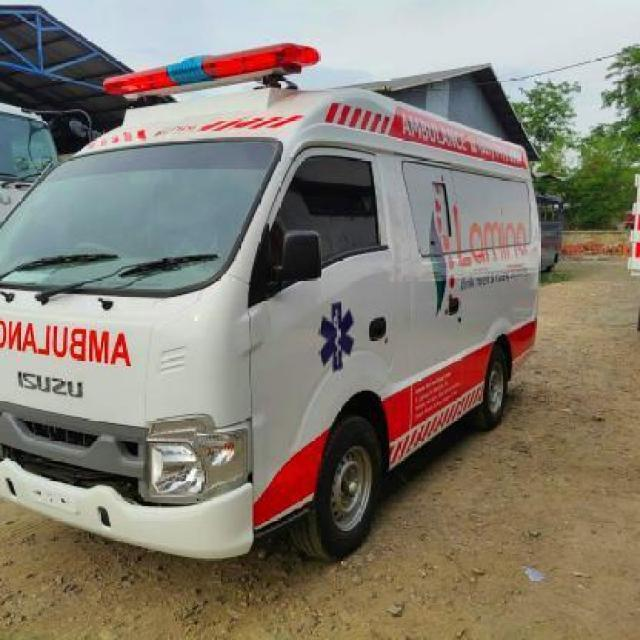emergency: (1, 40, 544, 564)
